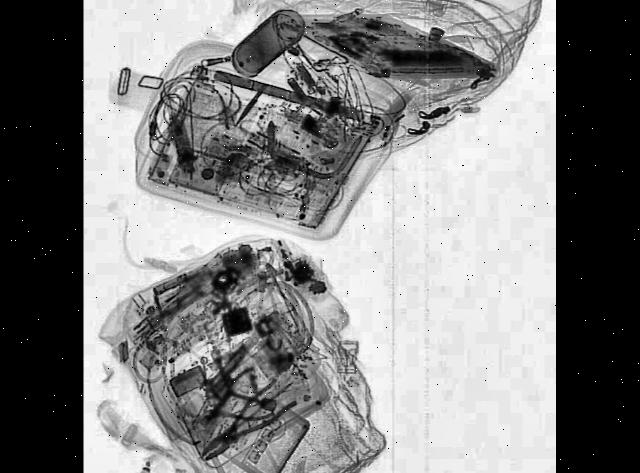Pliers: (194, 367, 299, 473)
